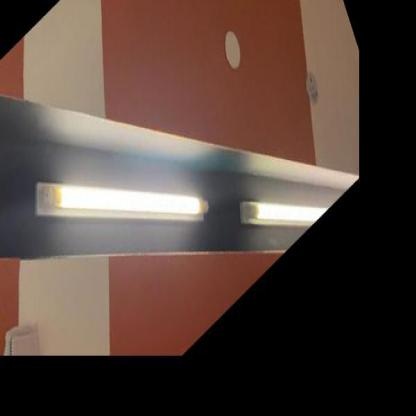light_on: (16, 41, 216, 358), (232, 126, 329, 280)
